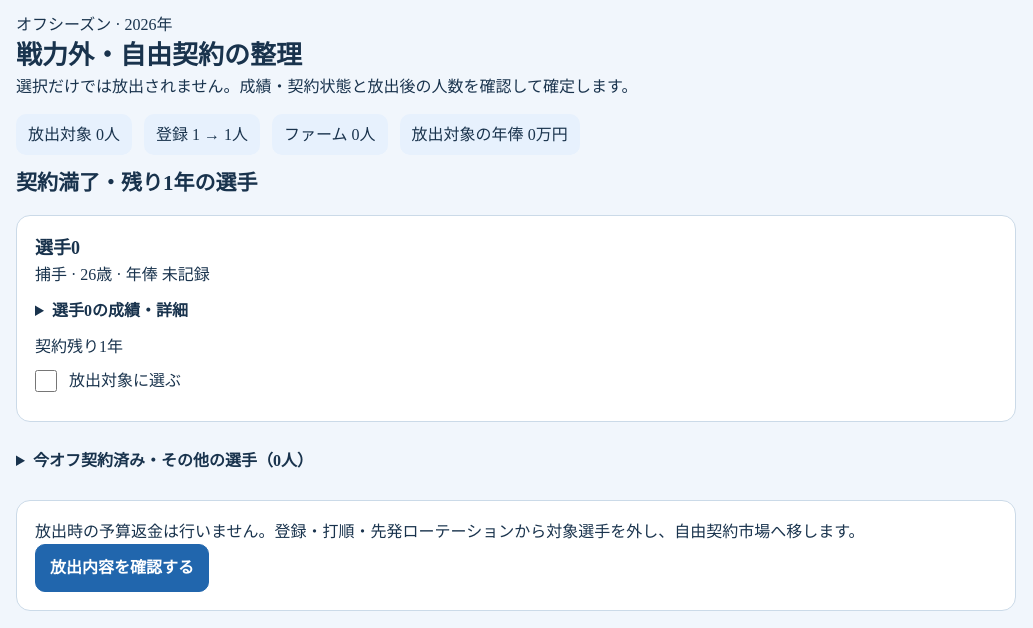
it: shows missing salary instead of projecting a fabricated zero and preserves saved zero metrics
Click the checkbox labelled "放出対象に選ぶ" at (46, 381), box x1=35 y1=370 x2=57 y2=392
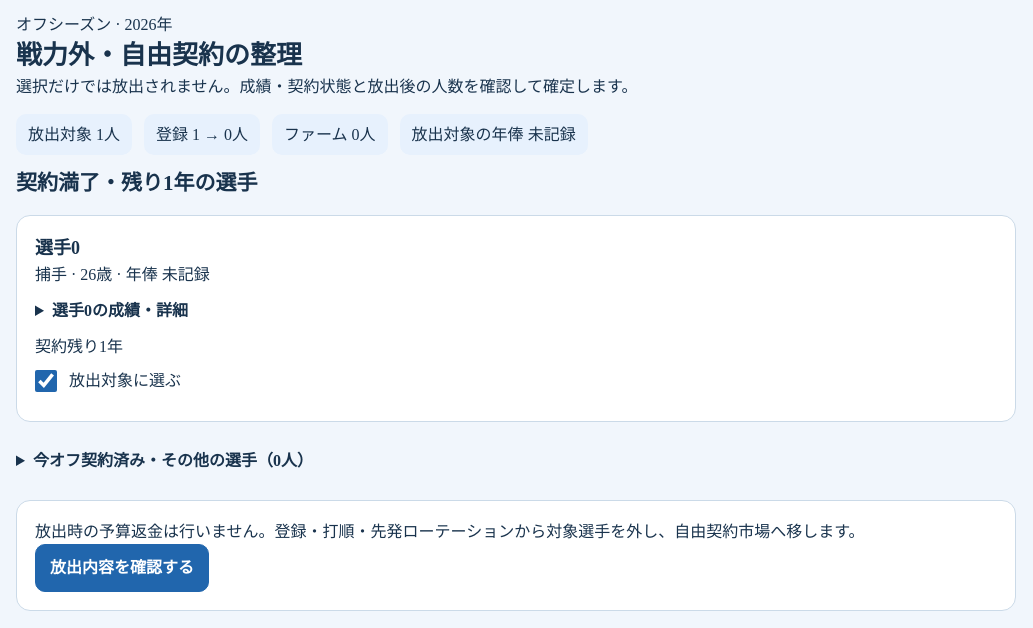
Result: the text "放出対象の年俸 未記録" is shown at x1=400 y1=114 x2=588 y2=155
